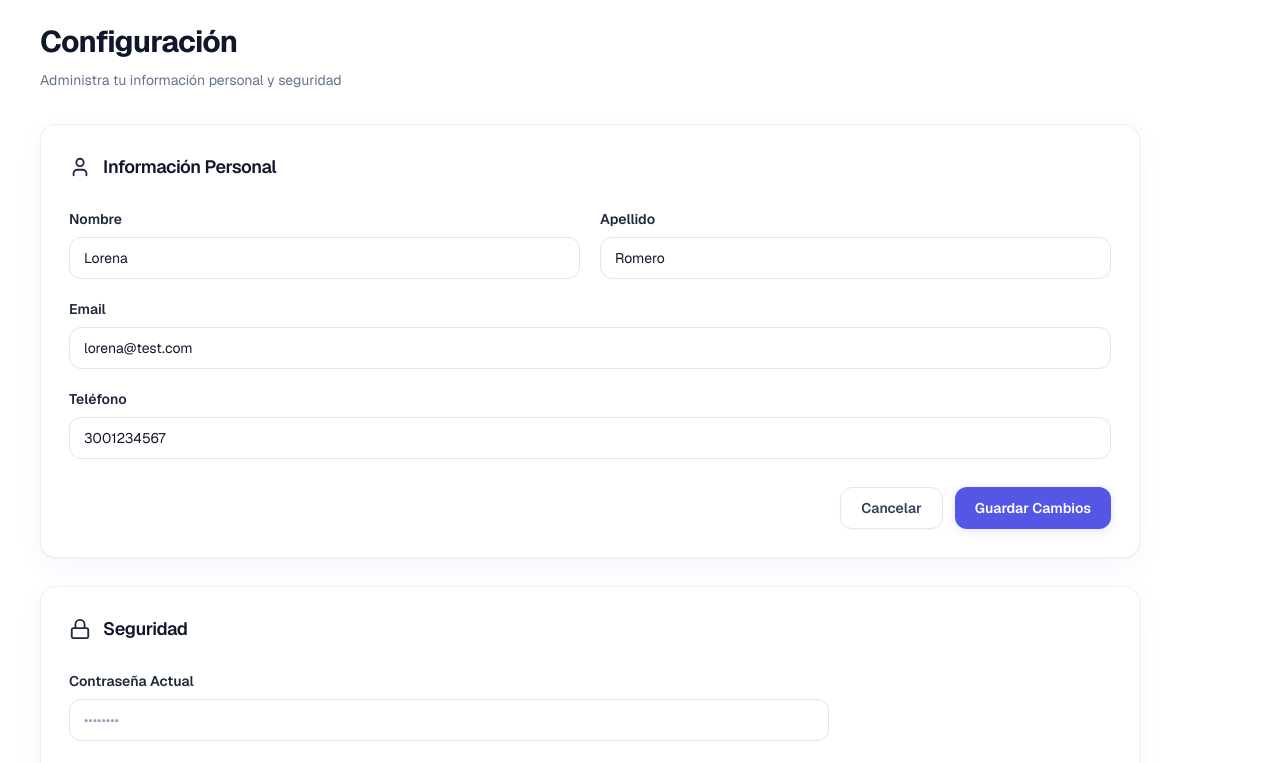
it: ConfiguracionPage — información personal › propaga el mensaje real del backend en lugar de un texto genérico
This screenshot has width=1280, height=763.
Click the button "Guardar Cambios". click: (1033, 508)
box: [955,487,1111,529]
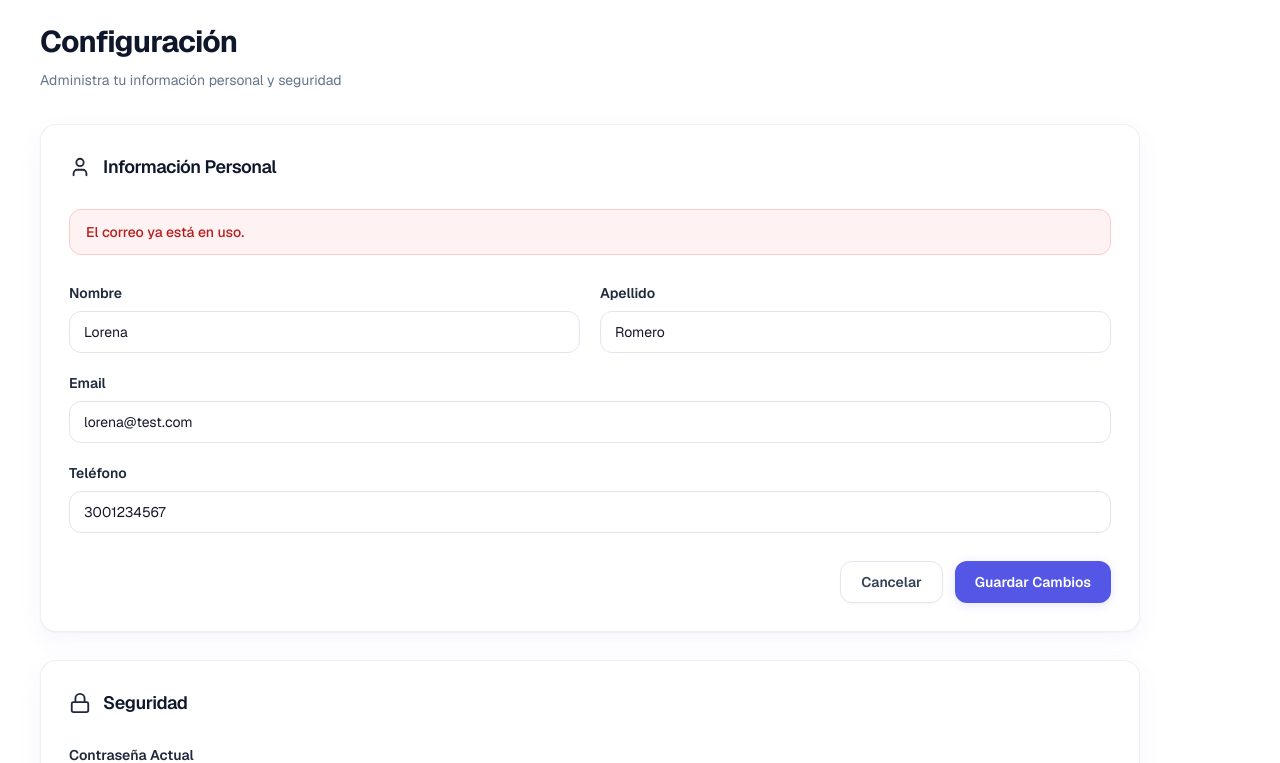
Now the text "El correo ya está en uso." is shown, box [69,209,1111,255]
